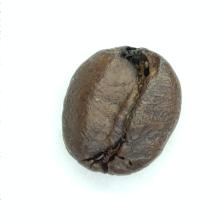NG: (104, 43, 171, 88)
